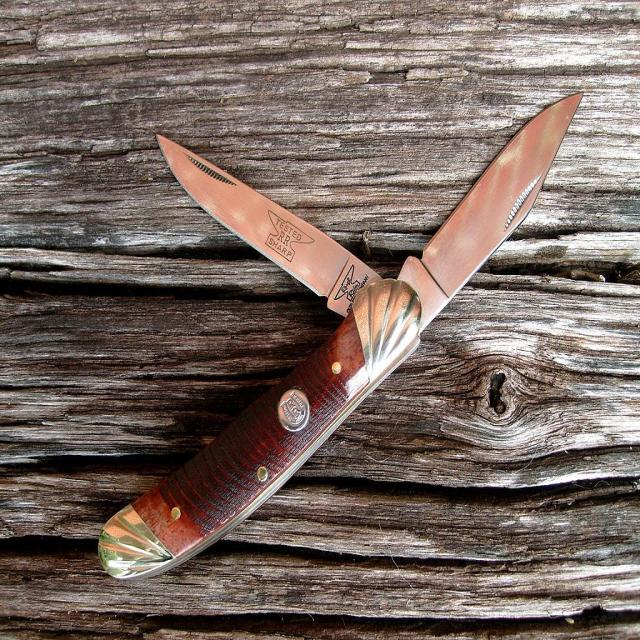Knife: (99, 94, 581, 579)
